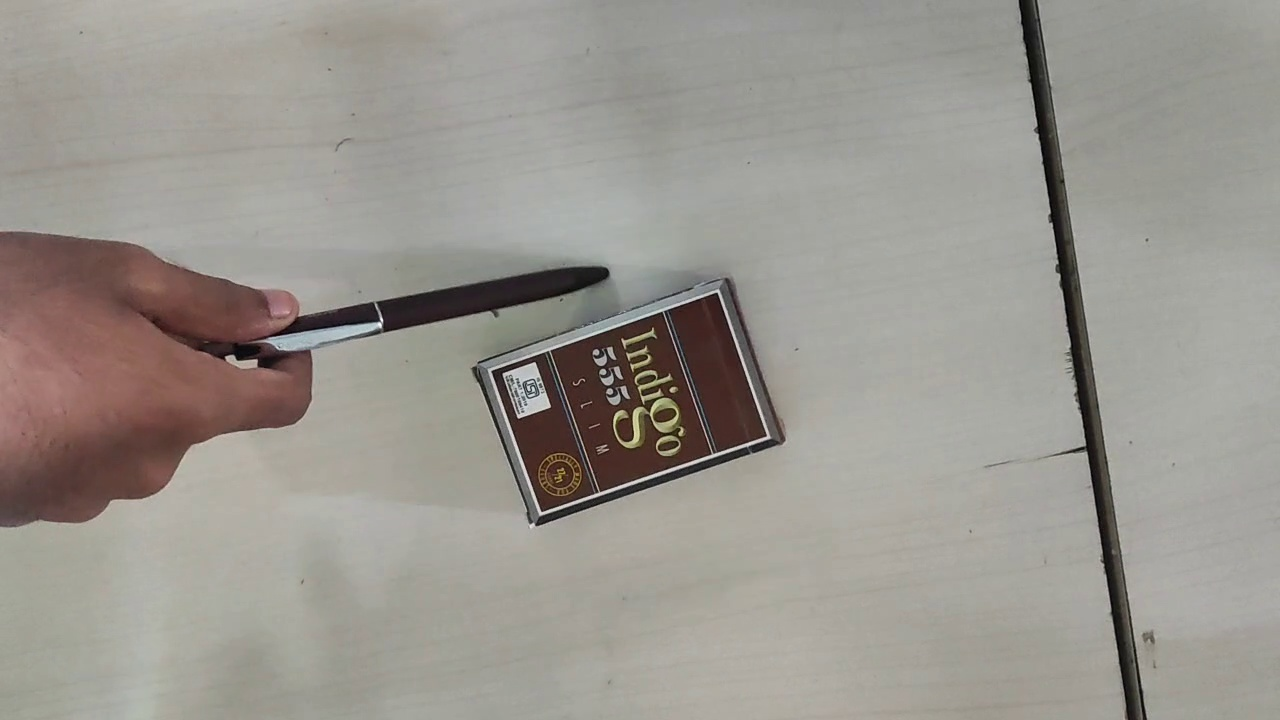BEX: (490, 292, 767, 512)
